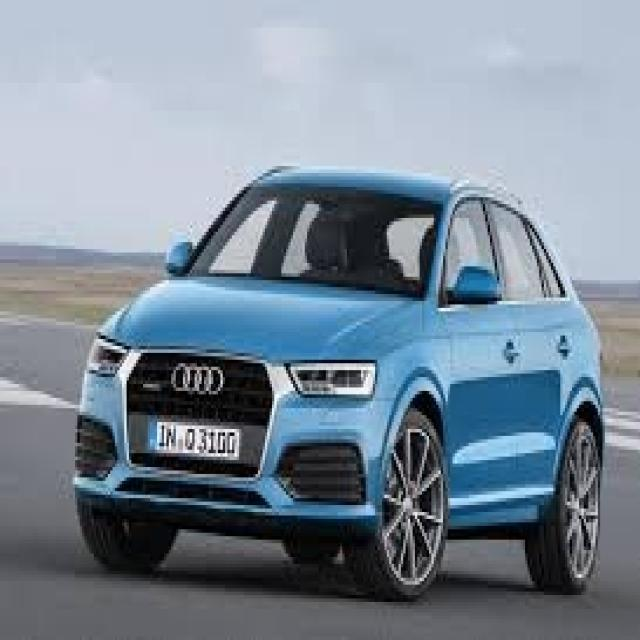blue: (77, 167, 600, 593)
